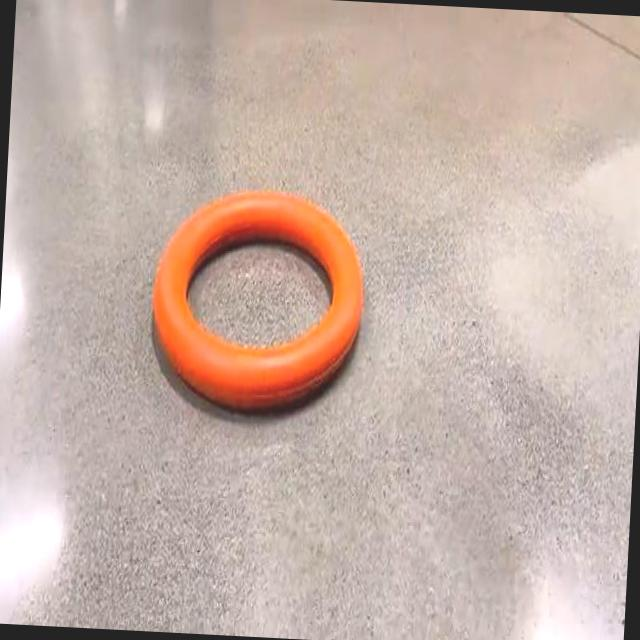note: (153, 192, 363, 409)
